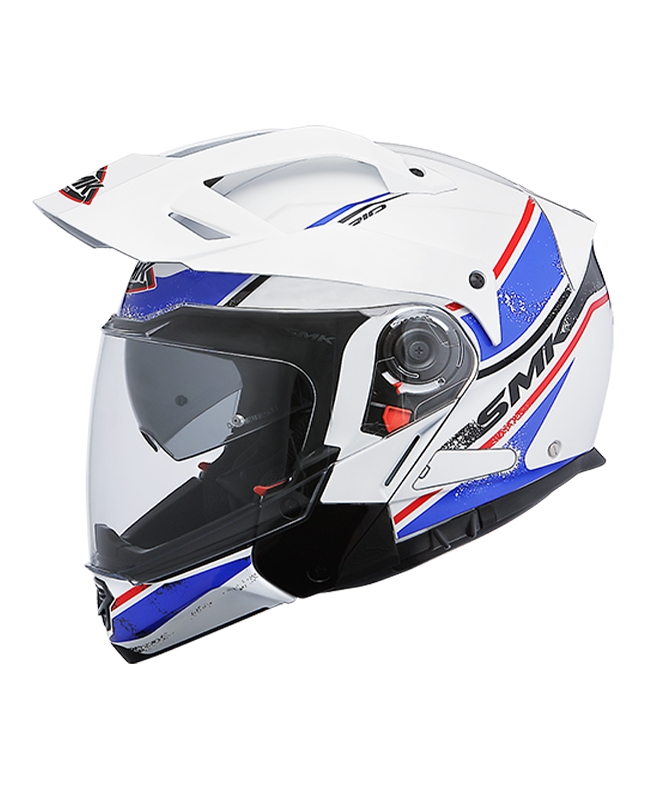with_helmet: (26, 116, 646, 674)
